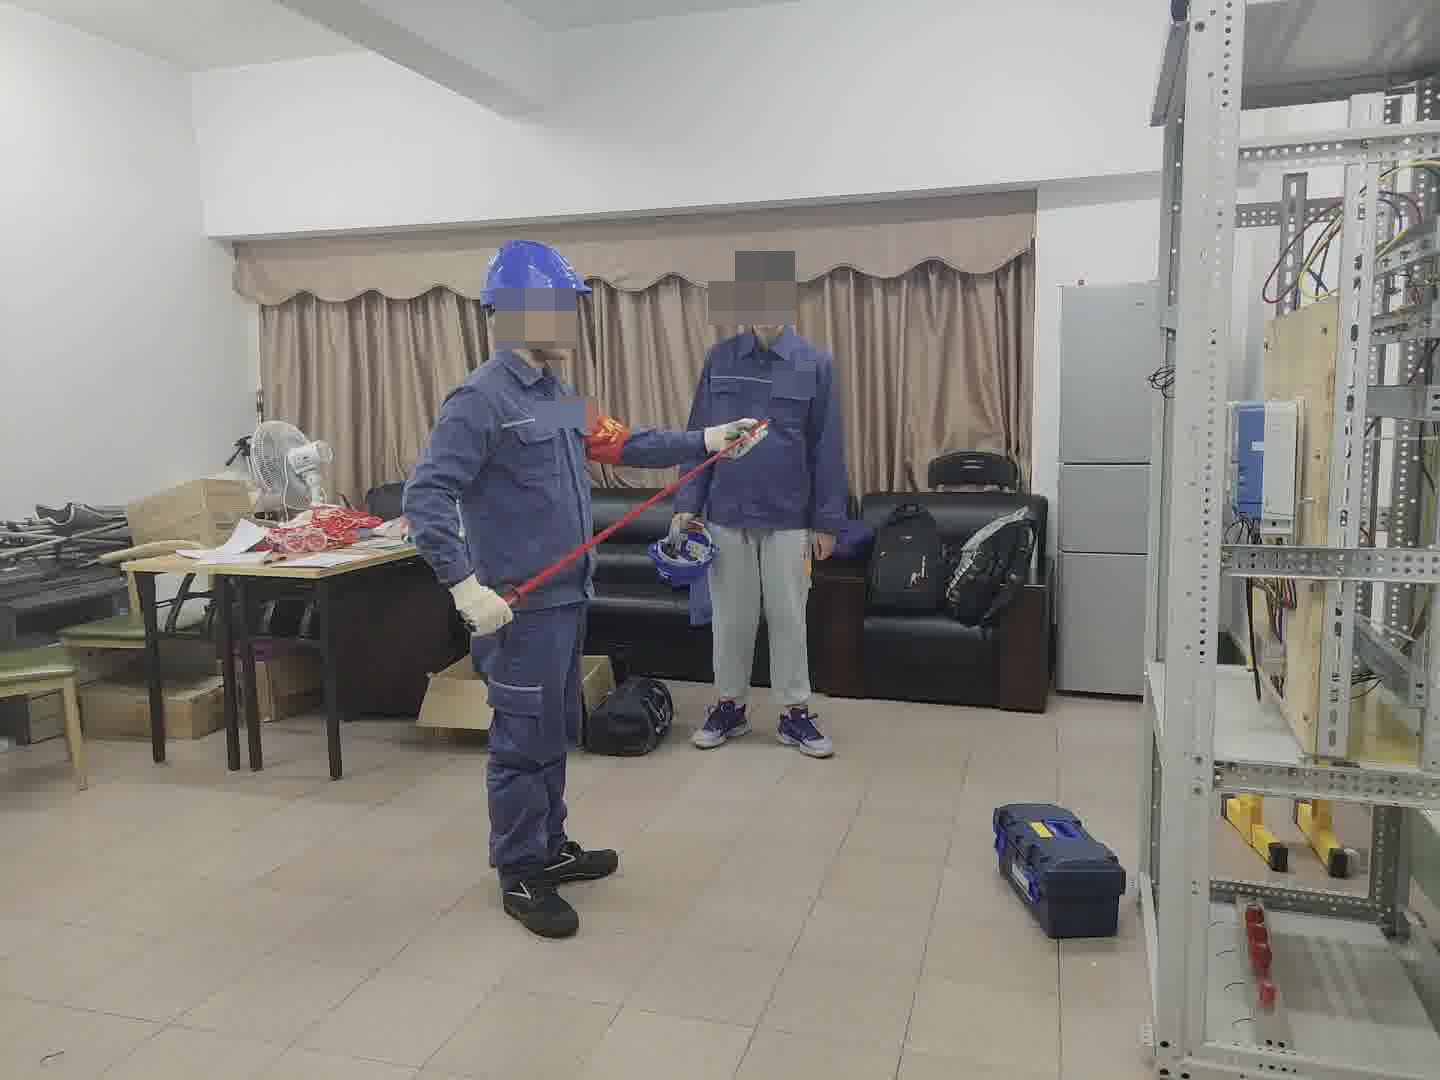badge: (587, 409, 629, 468)
downcloth: (698, 526, 820, 716)
downsuit: (476, 627, 585, 873)
halt: (476, 238, 598, 361), (728, 252, 804, 336)
hand: (809, 531, 835, 560)
inear: (498, 294, 542, 340)
person: (403, 234, 621, 932), (657, 246, 866, 757)
testrod: (508, 423, 765, 596)
upsuit: (399, 356, 587, 604), (643, 328, 855, 537)
wglove: (453, 573, 516, 637), (706, 412, 765, 460)
